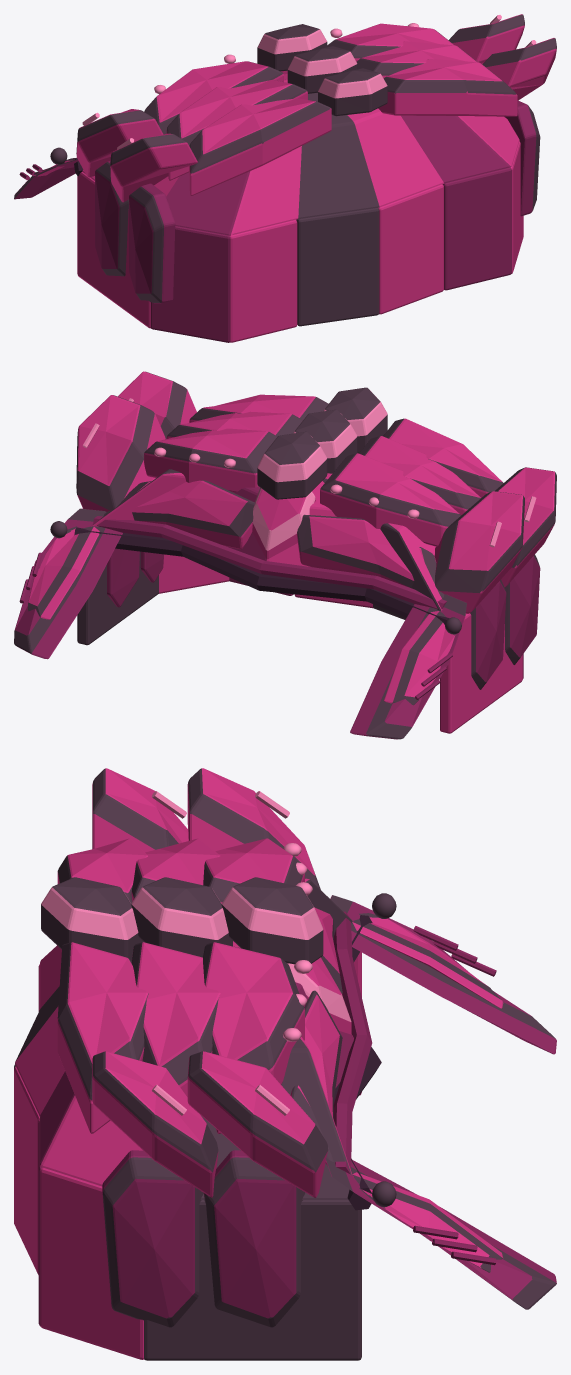
Rendered from reidite_helmet.fbx.
The picture shows the model from 3 angles, top to bottom: view 1: azimuth 30°, elevation 25°; view 2: azimuth 150°, elevation 25°; view 3: azimuth 270°, elevation 25°; orthographic projection. The views are drawn at different scales.
Visible parts, largest first — view 1: reidite_helmet_armor; view 2: reidite_helmet_armor; view 3: reidite_helmet_armor.
Boxes of the visible parts, box(x1,y1,x2,y2) form: reidite_helmet_armor: box(14, 14, 556, 342); reidite_helmet_armor: box(14, 371, 556, 739); reidite_helmet_armor: box(14, 768, 556, 1360).
Bounding box in the file's own units: 4.85 × 2.36 × 3.42.
1 material, 1 textured.
